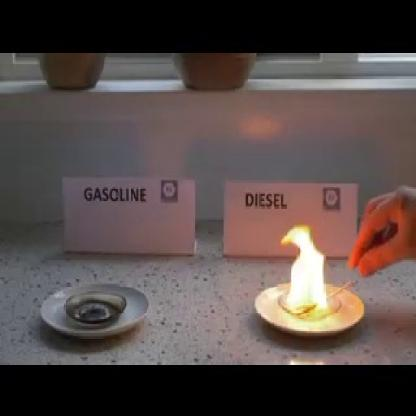fire: (276, 222, 336, 317)
